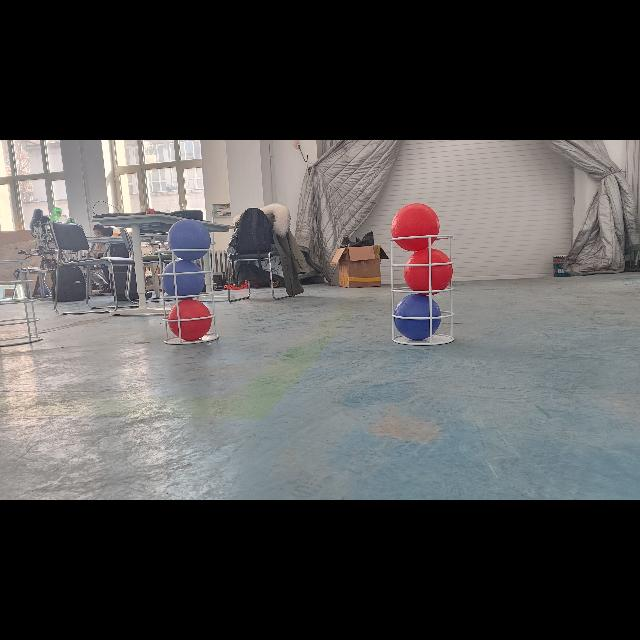B: (394, 294, 442, 340), (167, 219, 211, 263), (163, 259, 205, 299)
R: (392, 202, 440, 252), (404, 248, 454, 292), (165, 300, 212, 340)
S: (388, 202, 460, 316), (386, 244, 462, 346), (154, 245, 220, 348), (0, 256, 46, 346)
